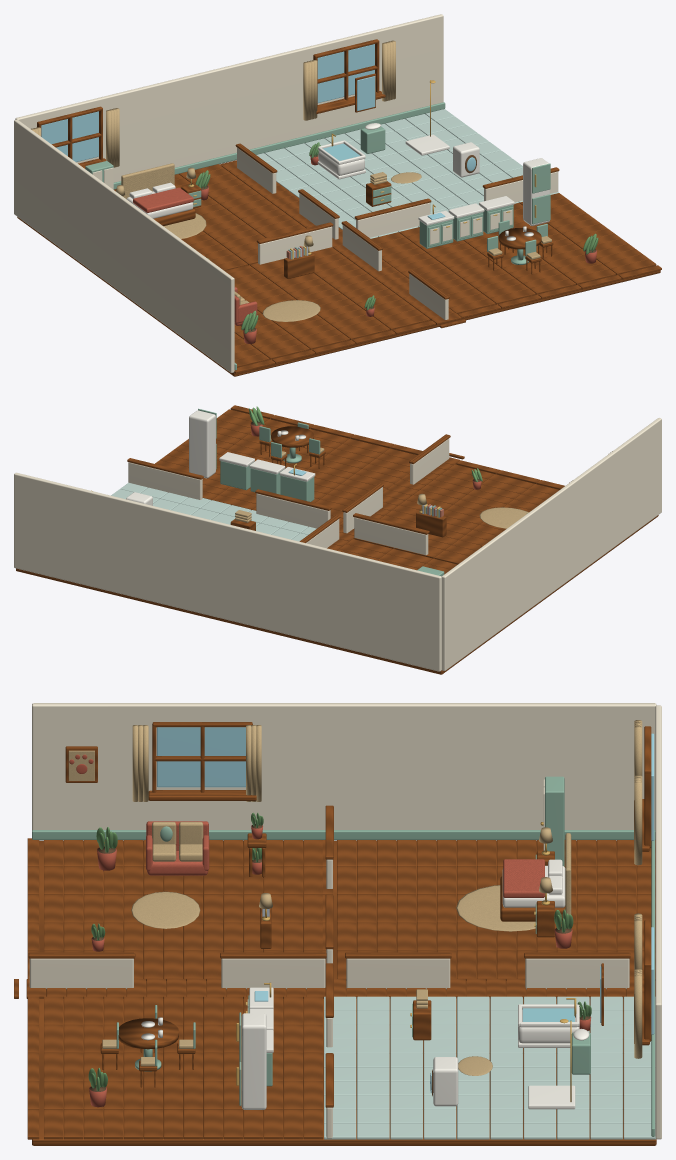
The model's file is pet-home.glb.
3 views of the same model, one above another, from view 1: azimuth 30°, elevation 25°; view 2: azimuth 150°, elevation 25°; view 3: azimuth 270°, elevation 25° (orthographic). The views are drawn at different scales.
Parts seen in each view (by area): view 1: Home Warm plaster, Home Honey oak, Home Sage ceramic, Home Oatmeal boucle, Home Sage painted wood, Home Blue glass, Home Sage painted wood fridge, Home Ivory ceramic fridge, Home Ivory ceramic bath, Home Ivory ceramic, Home Peach linen, Home Peach linen bed (+2 smaller); view 2: Home Warm plaster, Home Honey oak, Home Sage ceramic, Home Ivory ceramic fridge, Home Sage painted wood fridge, Home Oatmeal boucle, Home Sage painted wood, Home Honey oak fridge; view 3: Home Honey oak, Home Warm plaster, Home Sage ceramic, Home Oatmeal boucle, Home Sage painted wood, Home Blue glass, Home Ivory ceramic fridge, Home Peach linen, Home Ivory ceramic bath, Home Ivory ceramic, Home Leaf green, Home Honey oak fridge (+5 smaller).
Boxes of the visible parts, <box> form: Home Warm plaster: <box>14,14,558,372</box>; Home Honey oak: <box>17,39,661,376</box>; Home Sage ceramic: <box>256,109,558,238</box>; Home Oatmeal boucle: <box>31,40,551,321</box>; Home Sage painted wood: <box>85,102,547,370</box>; Home Blue glass: <box>41,44,476,171</box>; Home Sage painted wood fridge: <box>419,163,550,248</box>; Home Ivory ceramic fridge: <box>418,158,549,225</box>; Home Ivory ceramic bath: <box>317,123,449,179</box>; Home Ivory ceramic: <box>129,142,533,240</box>; Home Peach linen: <box>201,155,596,344</box>; Home Peach linen bed: <box>133,187,193,212</box>; Home Warm plaster: <box>14,418,661,671</box>; Home Honey oak: <box>16,405,658,674</box>; Home Sage ceramic: <box>111,482,316,541</box>; Home Ivory ceramic fridge: <box>189,410,315,481</box>; Home Sage painted wood fridge: <box>198,408,314,501</box>; Home Oatmeal boucle: <box>235,435,612,528</box>; Home Sage painted wood: <box>259,422,444,576</box>; Home Honey oak fridge: <box>271,426,313,447</box>; Home Honey oak: <box>14,722,656,1145</box>; Home Warm plaster: <box>29,703,661,1139</box>; Home Sage ceramic: <box>324,996,655,1139</box>; Home Oatmeal boucle: <box>68,720,642,1075</box>; Home Sage painted wood: <box>32,776,655,1136</box>; Home Blue glass: <box>157,727,654,1092</box>; Home Ivory ceramic fridge: <box>241,987,273,1109</box>; Home Peach linen: <box>69,754,591,1107</box>; Home Ivory ceramic bath: <box>518,1004,589,1109</box>; Home Ivory ceramic: <box>141,859,562,1106</box>; Home Leaf green: <box>88,812,591,1090</box>; Home Honey oak fridge: <box>118,833,266,1049</box>.
Size of the model in its own units: 17.16 by 3.77 by 15.56.
Materials: 17 (3 with a texture image).
